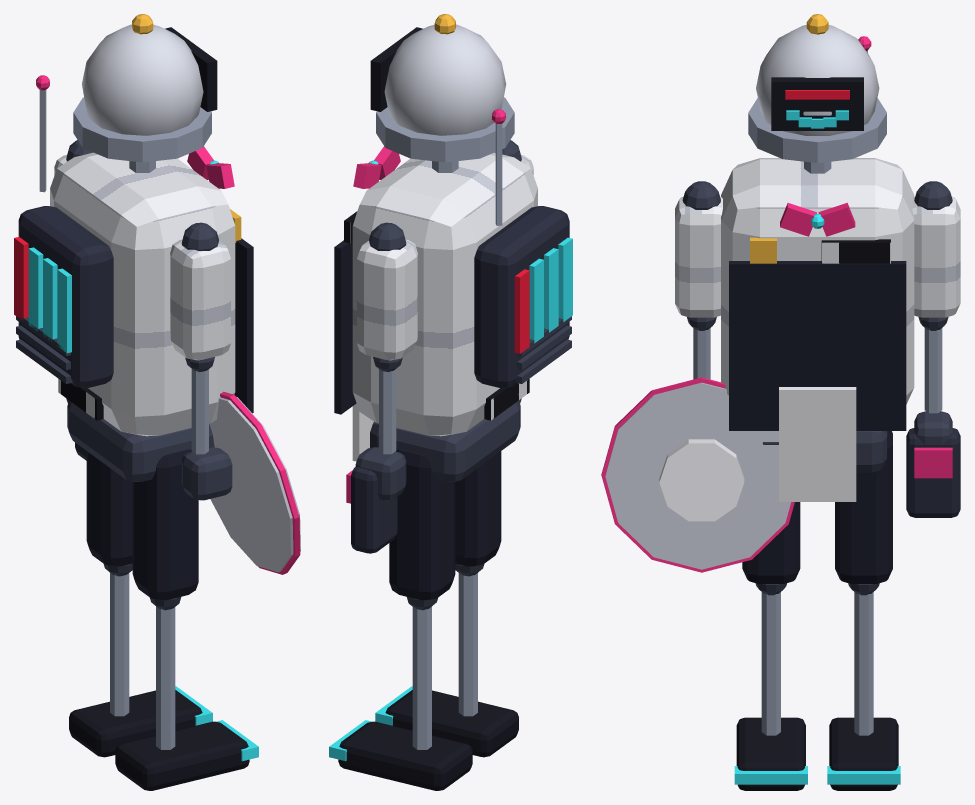
Rendered from serveur.glb.
3 views of the same model, side by side, from view 1: azimuth 30°, elevation 25°; view 2: azimuth 150°, elevation 25°; view 3: azimuth 270°, elevation 25° (orthographic).
Parts seen in each view (by area): view 1: p_rbox.092, p_sph.066, p_rbox.093, p_cyl.079, p_rbox.084, p_rbox.086, p_rbox.085, p_rbox.083, p_rbox.088, p_rbox.089, p_cyl.077, p_box.145 (+17 smaller); view 2: p_rbox.092, p_sph.066, p_rbox.093, p_rbox.088, p_rbox.090, p_rbox.089, p_rbox.083, p_rbox.084, p_rbox.085, p_cyl.077, p_box.145, p_rbox.094 (+17 smaller); view 3: p_box.145, p_cyl.079, p_rbox.092, p_box.148, p_sph.066, p_rbox.088, p_cyl.081, p_rbox.090, p_rbox.086, p_cyl.077, p_rbox.089, p_rbox.085 (+20 smaller).
Boxes of the visible parts, bbox=[...] form: p_rbox.092: bbox=[50, 152, 235, 436]; p_sph.066: bbox=[82, 24, 203, 135]; p_rbox.093: bbox=[18, 206, 113, 387]; p_cyl.079: bbox=[209, 397, 300, 572]; p_rbox.084: bbox=[132, 449, 198, 600]; p_rbox.086: bbox=[170, 239, 230, 360]; p_rbox.085: bbox=[115, 721, 249, 790]; p_rbox.083: bbox=[67, 401, 214, 481]; p_rbox.088: bbox=[86, 451, 132, 566]; p_rbox.089: bbox=[69, 690, 202, 757]; p_cyl.077: bbox=[73, 97, 211, 162]; p_box.145: bbox=[234, 238, 253, 413]; p_rbox.092: bbox=[352, 152, 537, 436]; p_sph.066: bbox=[384, 24, 506, 135]; p_rbox.093: bbox=[474, 206, 569, 387]; p_rbox.088: bbox=[389, 449, 455, 600]; p_rbox.090: bbox=[357, 239, 417, 360]; p_rbox.089: bbox=[338, 721, 472, 790]; p_rbox.083: bbox=[370, 400, 520, 481]; p_rbox.084: bbox=[455, 451, 501, 566]; p_rbox.085: bbox=[385, 690, 518, 757]; p_cyl.077: bbox=[376, 97, 514, 162]; p_box.145: bbox=[334, 240, 356, 414]; p_rbox.094: bbox=[351, 467, 397, 553]; p_box.145: bbox=[729, 261, 906, 430]; p_cyl.079: bbox=[605, 382, 791, 569]; p_rbox.092: bbox=[721, 158, 914, 404]; p_box.148: bbox=[779, 387, 856, 501]; p_sph.066: bbox=[756, 25, 879, 135]; p_rbox.088: bbox=[835, 431, 892, 583]; p_cyl.081: bbox=[659, 439, 744, 521]; p_rbox.090: bbox=[912, 197, 960, 317]; p_rbox.086: bbox=[675, 196, 722, 317]; p_cyl.077: bbox=[748, 98, 886, 163]; p_rbox.089: bbox=[829, 717, 898, 790]; p_rbox.085: bbox=[736, 717, 805, 790].
Bounding box in the file's own units: 0.539 × 2.13 × 0.93.
14 materials, 2 textured.
